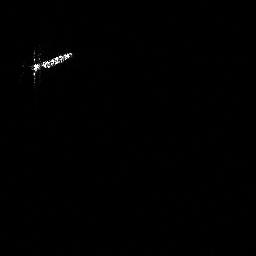ship: (25, 49, 75, 83)
